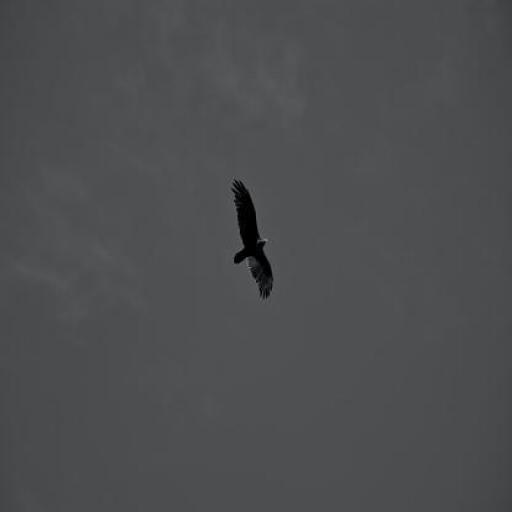bird: (233, 181, 273, 300)
